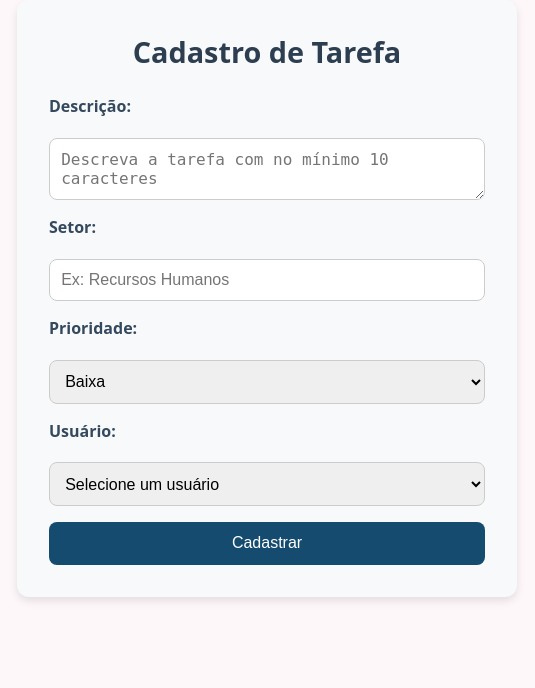
Scenario: CadastroTarefa - Testes completos › 6. Deve exibir erro se o setor tiver menos de 3 caracteres
Type "Descrição válida" into the text box labelled "Descrição:" at [267, 169], box top-left (49, 138), bottom-right (485, 200)
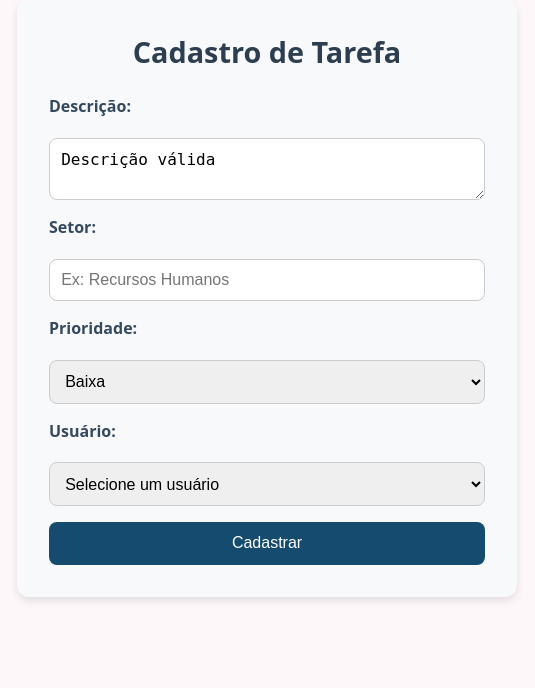
Type "AB" into the field labelled "Setor:" at [267, 280], box top-left (49, 259), bottom-right (485, 301)
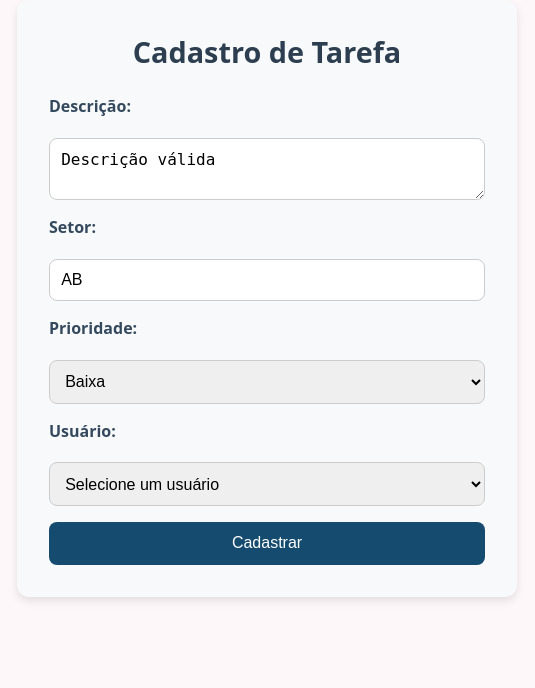
Select "1" in the dropdown labelled "Usuário:" at [267, 484], box top-left (49, 462), bottom-right (485, 506)
Click the button at [267, 544], box top-left (49, 522), bottom-right (485, 565)
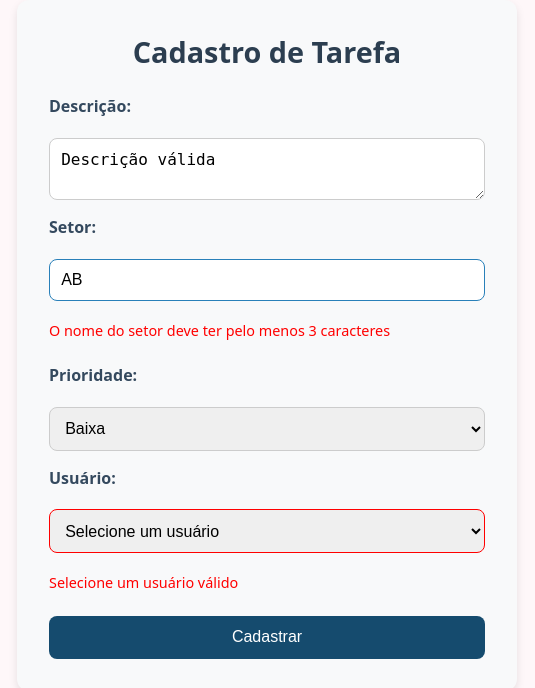
Expected: the text "O nome do setor deve ter pelo menos 3 caracteres" is shown, top-left (49, 321), bottom-right (390, 340)
